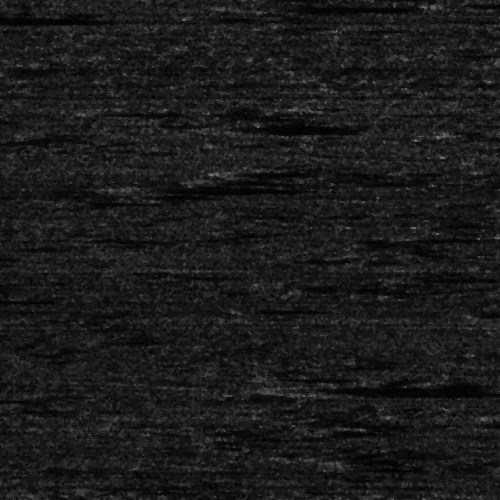object: (212, 1, 285, 12), (201, 161, 242, 180), (239, 386, 312, 393), (223, 125, 264, 128), (113, 187, 124, 192)
shadow: (222, 161, 373, 180), (249, 1, 407, 12), (276, 386, 433, 393), (0, 10, 78, 21), (119, 187, 240, 192), (244, 125, 374, 128), (0, 113, 21, 120), (390, 276, 500, 277)
